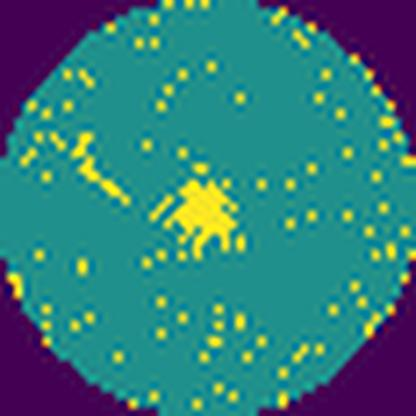Center: (174, 180, 236, 258)
